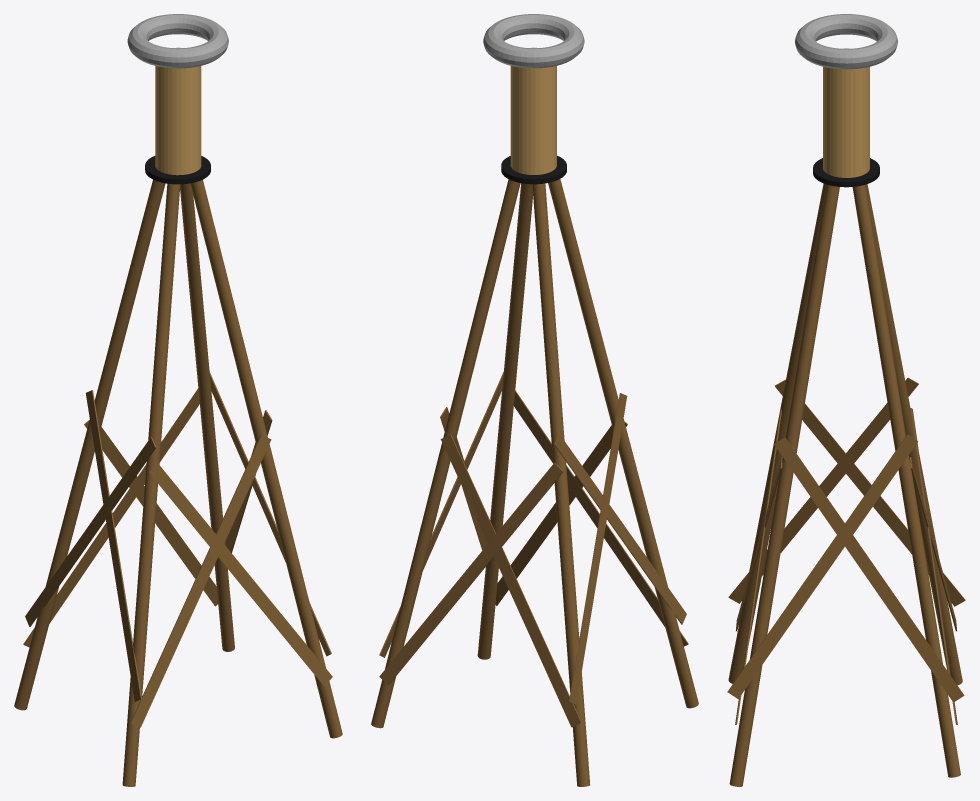
The model's file is tesla__tower.glb.
The picture shows the model from 3 angles, left to right: view 1: azimuth 30°, elevation 25°; view 2: azimuth 150°, elevation 25°; view 3: azimuth 270°, elevation 25°; orthographic projection.
Visible parts, largest first — view 1: Cylinder.003, Cylinder.002, Cylinder, Cylinder.001, Cylinder.004, Torus, Cube, Cube.001, Cube.003, Cube.007, Cube.006, Cube.002 (+3 smaller); view 2: Cylinder, Cylinder.001, Cylinder.003, Cylinder.002, Cylinder.004, Torus, Cube.002, Cube.003, Cube.006, Cube, Cube.007, Cube.001 (+2 smaller); view 3: Cylinder.002, Cylinder.001, Cylinder.004, Cylinder.003, Cube.004, Cube.005, Cylinder, Torus, Cube.007, Cube.006, Cylinder.005, Cube.002 (+3 smaller).
Boxes of the visible parts, x1=… form: Cylinder.003: x1=122, y1=183, x2=180, y2=786; Cylinder.002: x1=190, y1=179, x2=342, y2=738; Cylinder: x1=14, y1=179, x2=165, y2=710; Cylinder.001: x1=180, y1=183, x2=234, y2=651; Cylinder.004: x1=155, y1=47, x2=201, y2=175; Torus: x1=127, y1=14, x2=228, y2=68; Cube: x1=130, y1=434, x2=271, y2=727; Cube.001: x1=149, y1=463, x2=332, y2=685; Cube.003: x1=23, y1=388, x2=199, y2=647; Cube.007: x1=85, y1=390, x2=141, y2=701; Cube.006: x1=25, y1=437, x2=156, y2=626; Cube.002: x1=84, y1=420, x2=218, y2=606; Cylinder: x1=532, y1=183, x2=590, y2=786; Cylinder.001: x1=371, y1=179, x2=520, y2=728; Cylinder.003: x1=548, y1=179, x2=698, y2=708; Cylinder.002: x1=477, y1=183, x2=533, y2=659; Cylinder.004: x1=510, y1=47, x2=556, y2=174; Torus: x1=483, y1=14, x2=584, y2=68; Cube.002: x1=379, y1=462, x2=563, y2=685; Cube.003: x1=440, y1=434, x2=581, y2=727; Cube.006: x1=569, y1=393, x2=627, y2=704; Cube: x1=514, y1=390, x2=688, y2=646; Cube.007: x1=554, y1=434, x2=686, y2=624; Cube.001: x1=495, y1=421, x2=627, y2=605; Cylinder.002: x1=729, y1=184, x2=839, y2=786; Cylinder.001: x1=852, y1=185, x2=960, y2=777; Cylinder.004: x1=823, y1=48, x2=869, y2=177; Cylinder.003: x1=728, y1=183, x2=826, y2=683; Cube.004: x1=774, y1=437, x2=964, y2=702; Cube.005: x1=727, y1=434, x2=917, y2=698; Cylinder: x1=865, y1=184, x2=962, y2=685; Torus: x1=795, y1=14, x2=897, y2=69; Cube.007: x1=728, y1=377, x2=918, y2=603; Cube.006: x1=775, y1=379, x2=965, y2=606; Cylinder.005: x1=813, y1=158, x2=879, y2=187; Cube.002: x1=910, y1=408, x2=957, y2=724.
Bounding box in the file's own units: 7.66 × 23.08 × 7.09.
